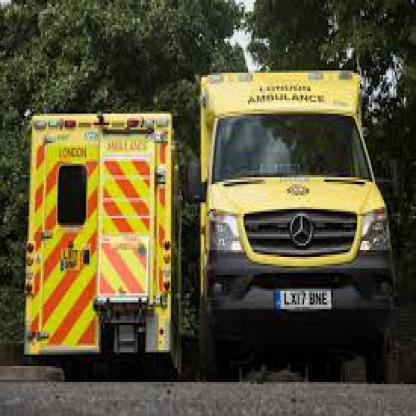van: (196, 70, 402, 391), (21, 107, 189, 389)
